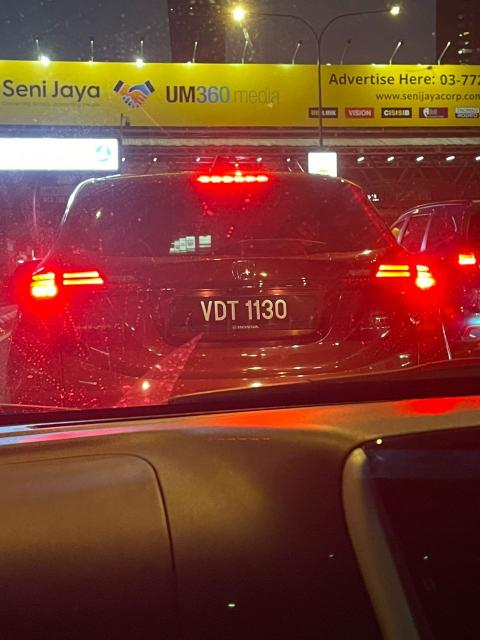License_Plate: (181, 296, 304, 329)
car: (18, 158, 454, 421)
